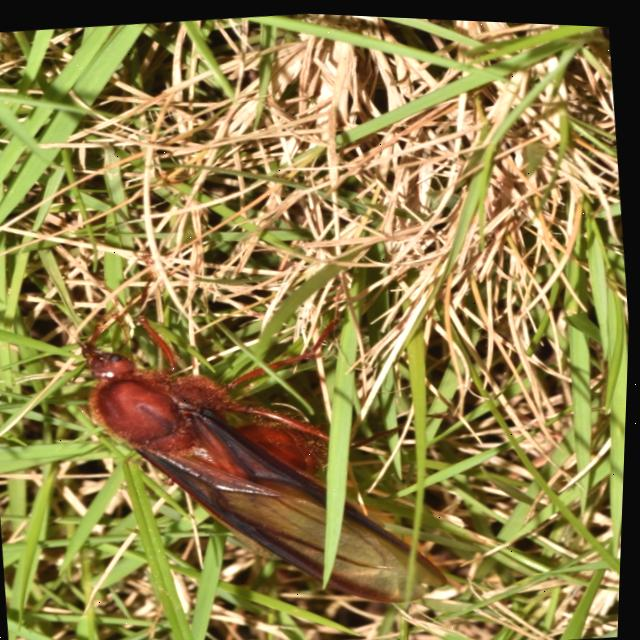Alive-Male-Alate: (46, 268, 469, 638)
